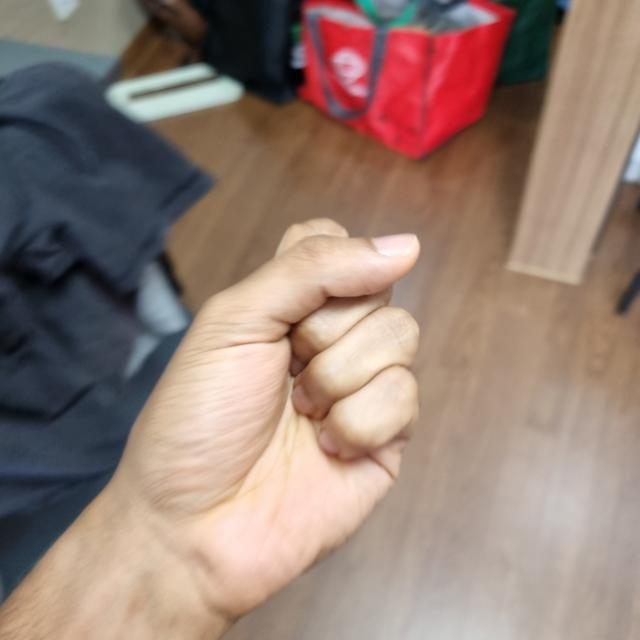Rock: (113, 239, 419, 605)
